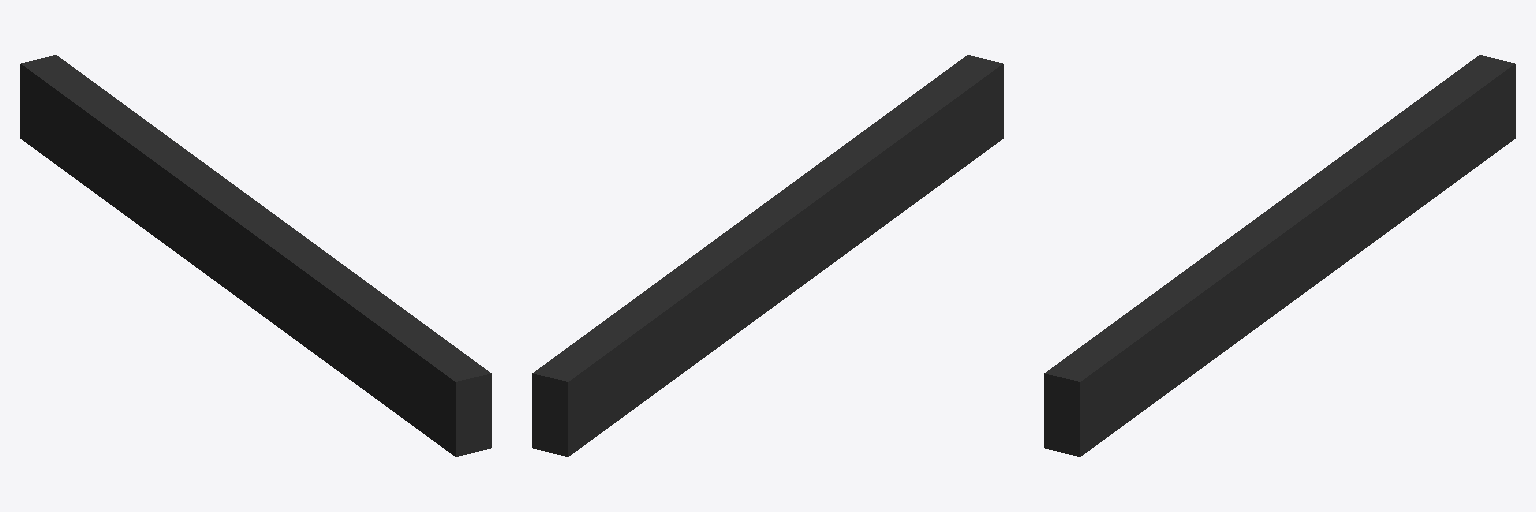
robot.urdf — wall:
<robot name="wall">
  <link name="baseLink">
   
    <inertial>
      <origin rpy="0 0 0" xyz="0 0 0" />
       <mass value="1000.0" />
       <inertia ixx="0" ixy="0" ixz="0" iyy="0" iyz="0" izz="0" />
    </inertial>
    <visual>
      <origin rpy="0 0 0" xyz="0 0 0" />
      <geometry>
			  <box size="1 21 2" />
      </geometry>
       <material name="grey">
        <color rgba="0.24 0.24 0.24 1" />
      </material>
    </visual>
    <collision>
      <origin rpy="0 0 0" xyz="0 0 0" />
      <geometry>
	 	      <box size="1 21 2" />
      </geometry>
    </collision>
  </link>
</robot>

--- Facts derived from the render (not from the file) ---
3 views of the same robot in one strip: view 1: azimuth 30°, elevation 25°; view 2: azimuth 150°, elevation 25°; view 3: azimuth 330°, elevation 25° (orthographic).
Robot: wall — 1 links, 0 joints (none); root link baseLink; default pose: every joint at zero.
Visible links, largest first — view 1: baseLink; view 2: baseLink; view 3: baseLink.
Boxes of the visible links, left/top/right/bottom form: baseLink: left=20, top=55, right=491, bottom=456; baseLink: left=532, top=55, right=1003, bottom=456; baseLink: left=1044, top=55, right=1515, bottom=456.
Size in the robot's own frame: 1 by 21 by 2 metres.
Geometry: primitives only (box / cylinder / sphere), no mesh files.